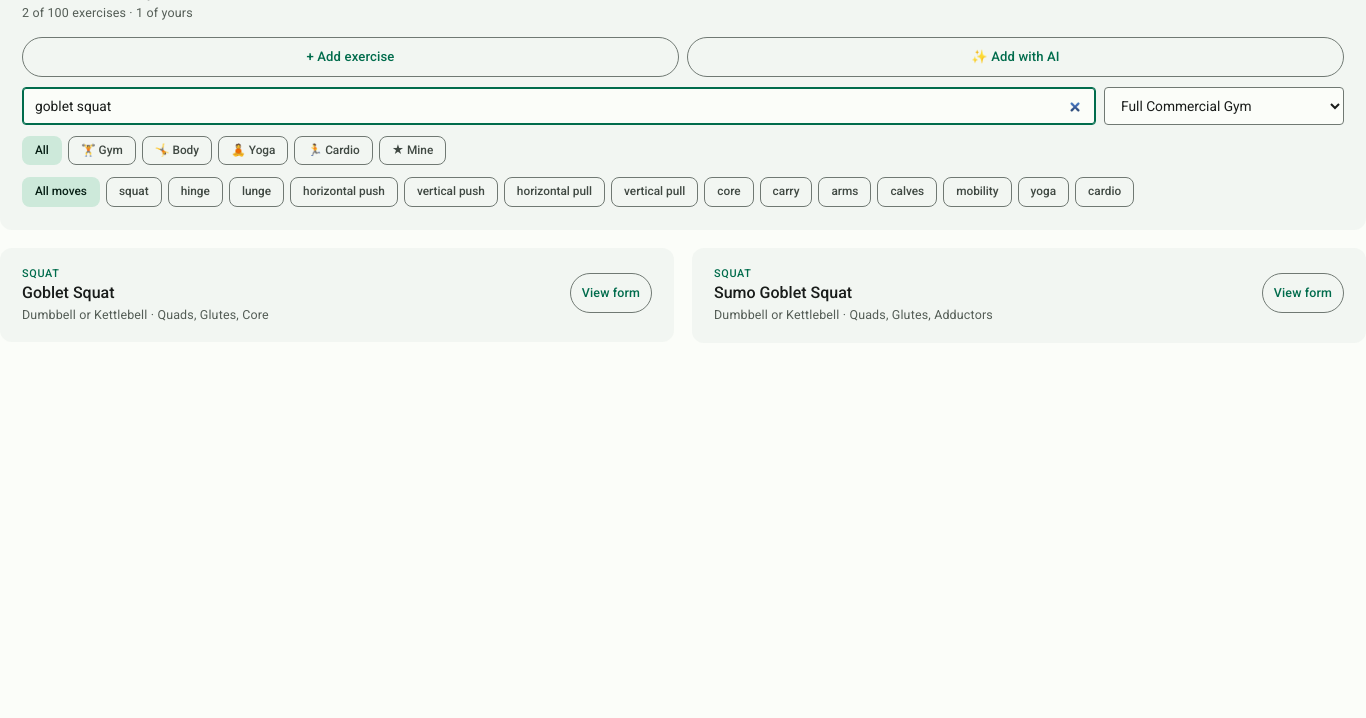
library screen › can keep a built-in exercise out of plans, and won't delete one that's in the current plan
Earlier steps of the test are not shown.
Click the button "View form" in the row of "Quads, Glutes, Core" at (611, 293), box [570,273,652,313]
(page scrolled)
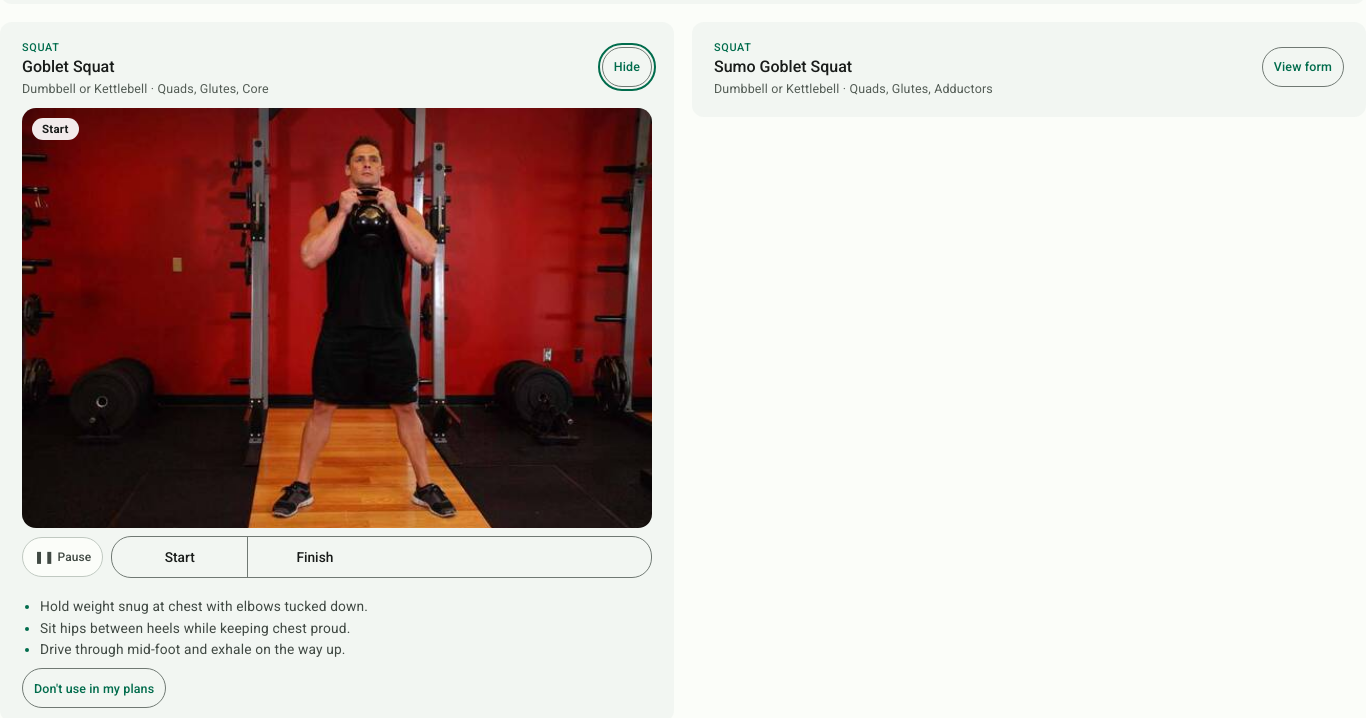
Click the button "Don't use in my plans" at (94, 688), box [22,668,166,708]
(page scrolled)
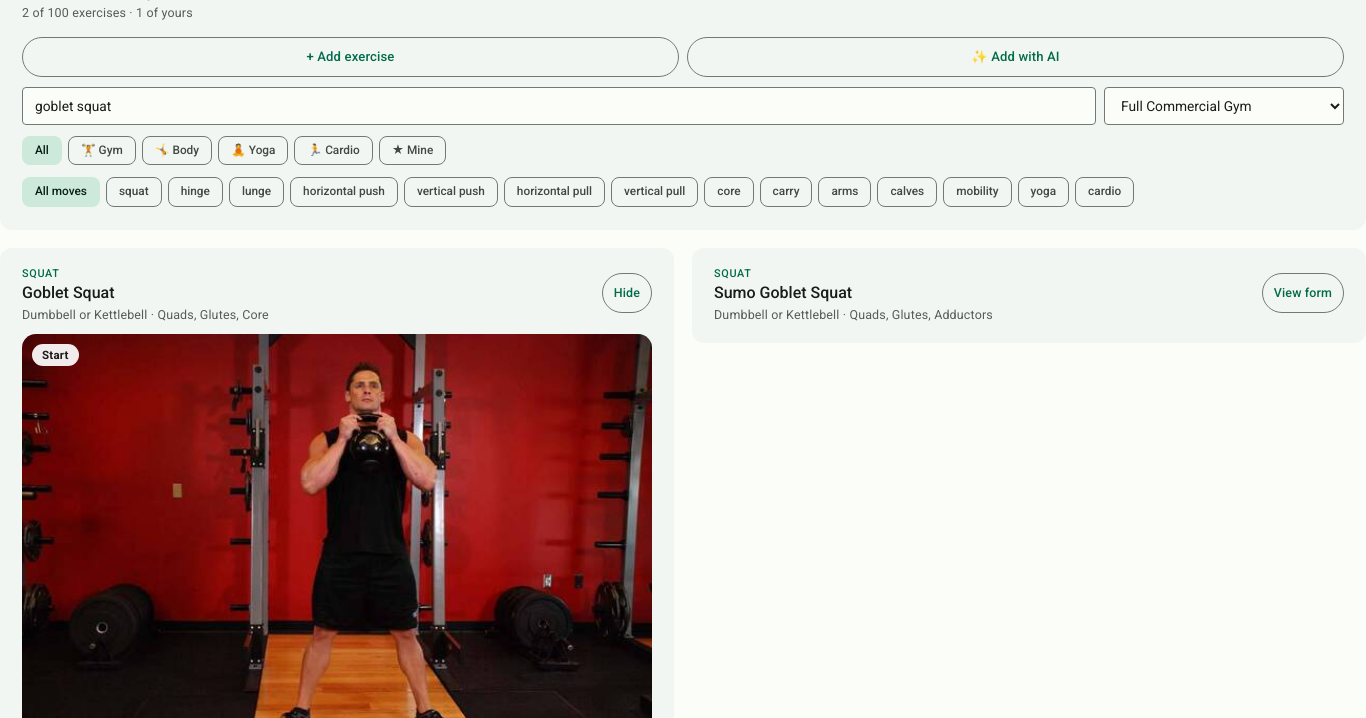
Clear the search field named "Search exercises" at (559, 106), box [22,87,1096,125]
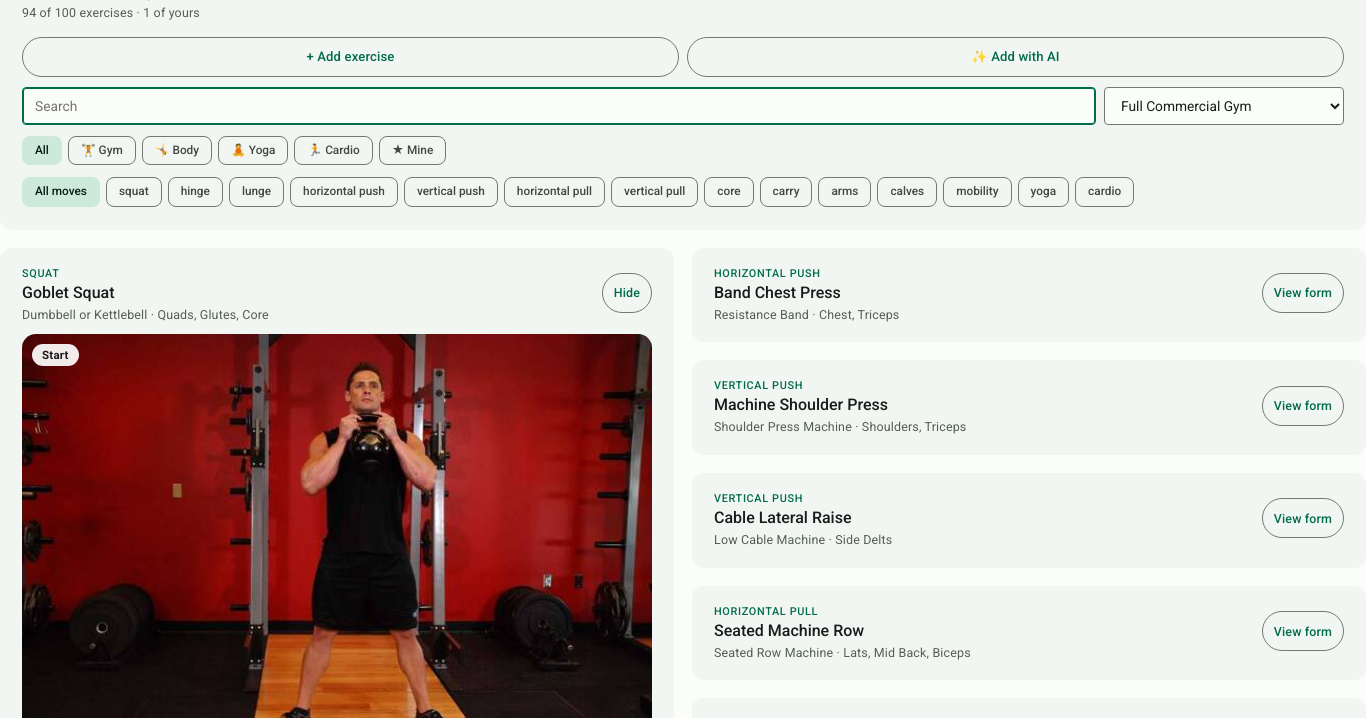
Click the button "★ Mine" at (412, 150), box [379,136,446,165]
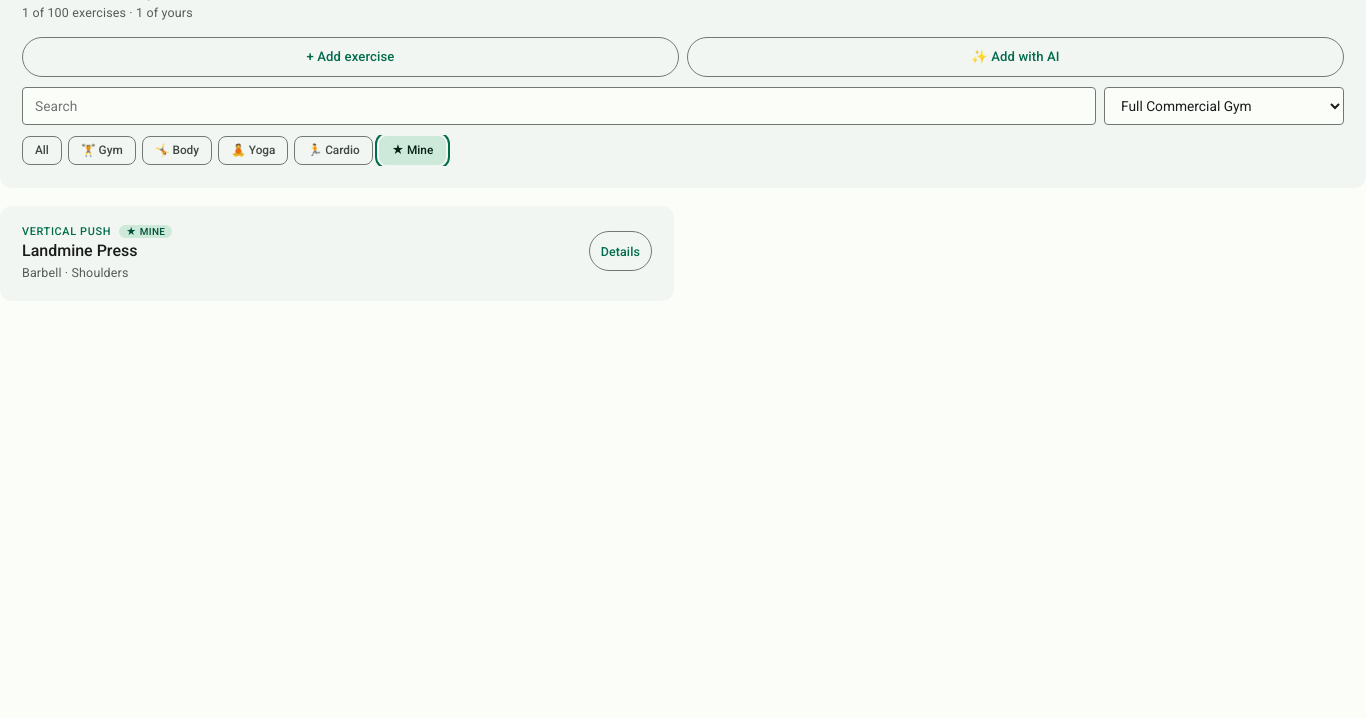
Click the button "Details" at (620, 252), box [589,232,652,272]
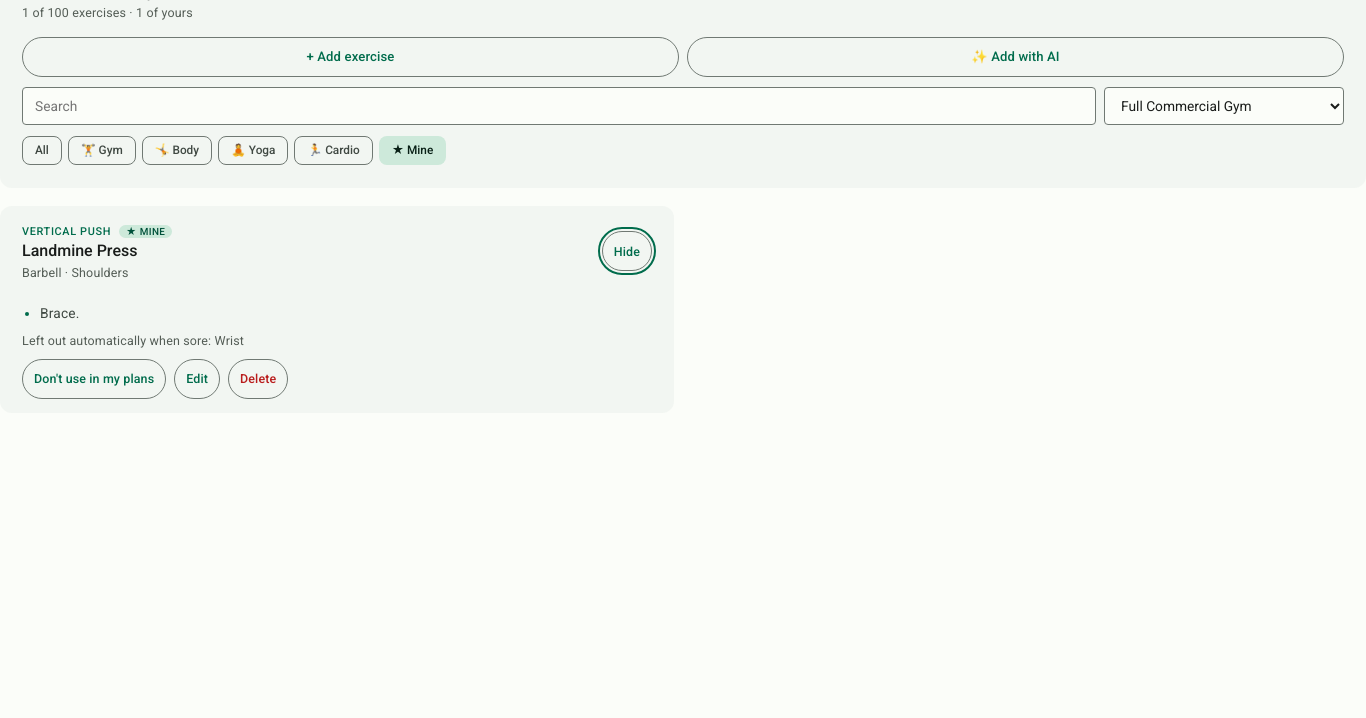
Click the button "Delete" at (258, 379), box [228,359,288,399]
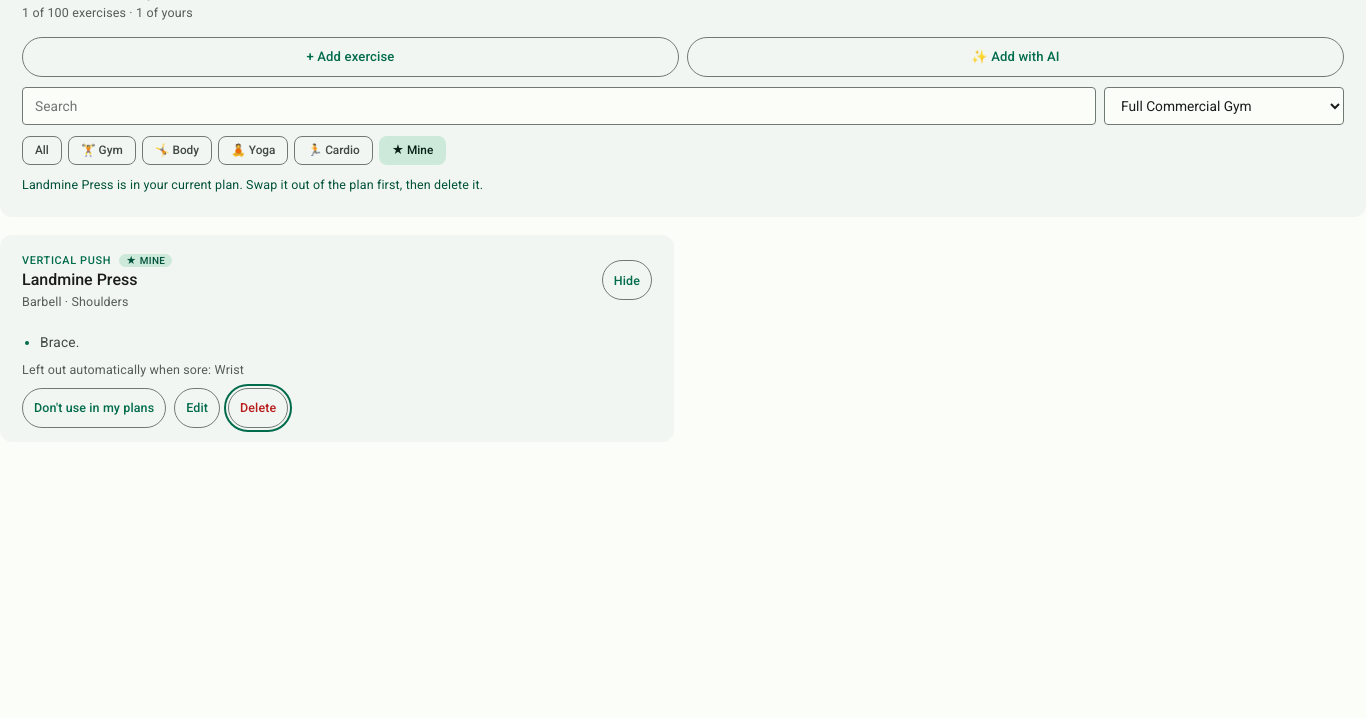
Expected: the message shows "in your current plan", [22,177,483,192]
